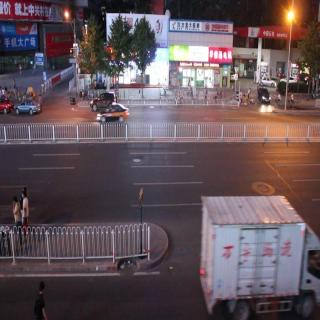BigCar: (190, 188, 320, 320)
Car: (91, 86, 126, 115), (98, 100, 128, 127), (14, 101, 41, 118), (254, 85, 274, 106)
